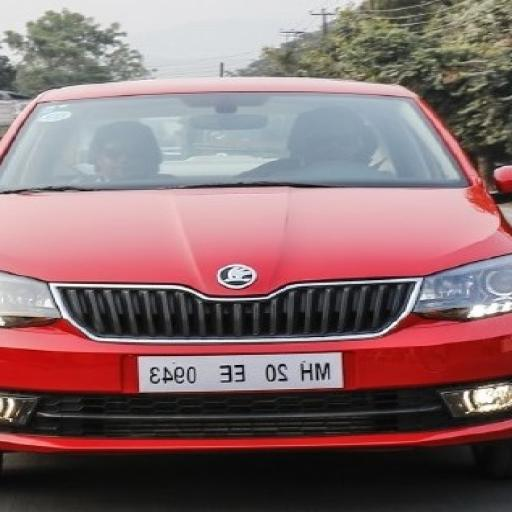License: (140, 352, 346, 394)
